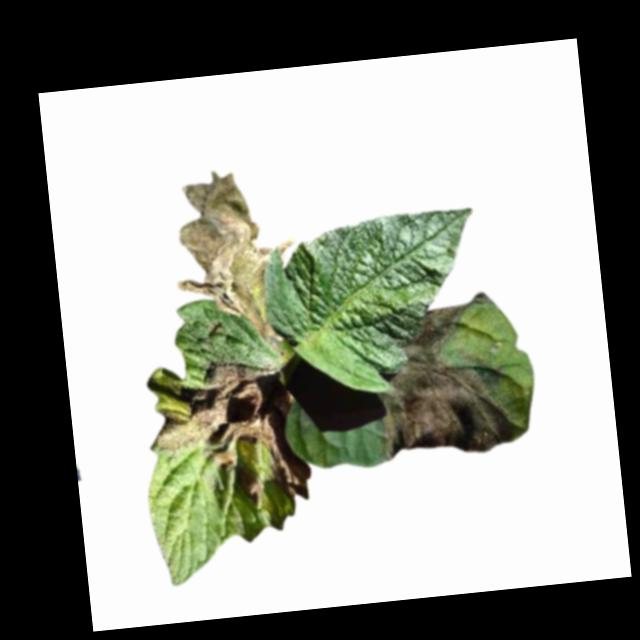Late_blight: (164, 162, 307, 348), (370, 299, 530, 464), (144, 354, 275, 455), (261, 376, 313, 502), (236, 470, 264, 501), (210, 449, 234, 471)
